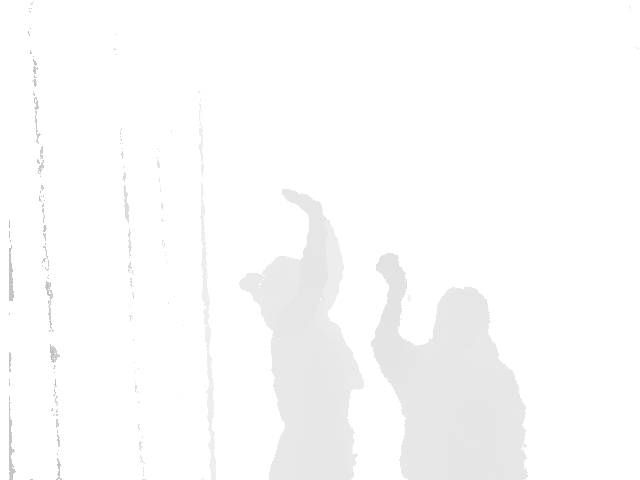hand: (281, 187, 331, 222), (374, 253, 408, 296)
head: (239, 255, 329, 316), (431, 286, 492, 350)
person: (239, 187, 365, 480), (369, 252, 530, 480)
